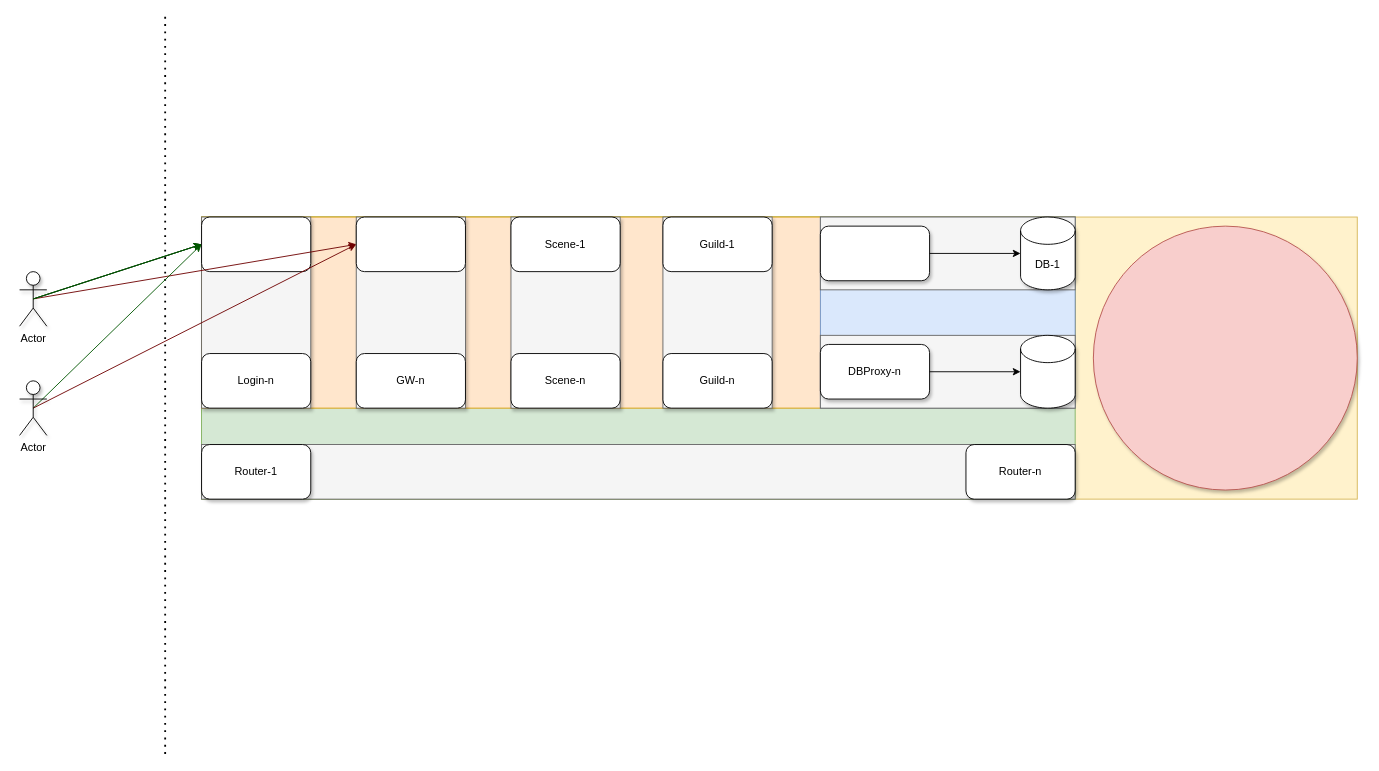
Image size: 1379x771. Some labels were removed from this diagram. Here are the shapes that lost their labels. From the top down, the centre of each, then its label:
At point (256, 244): "Login-1".
At point (410, 244): "GW-1".
At point (875, 254): "DBProxy-1".
At point (1048, 373): "DB-n".
At point (1226, 359): "ServerRegistry".
